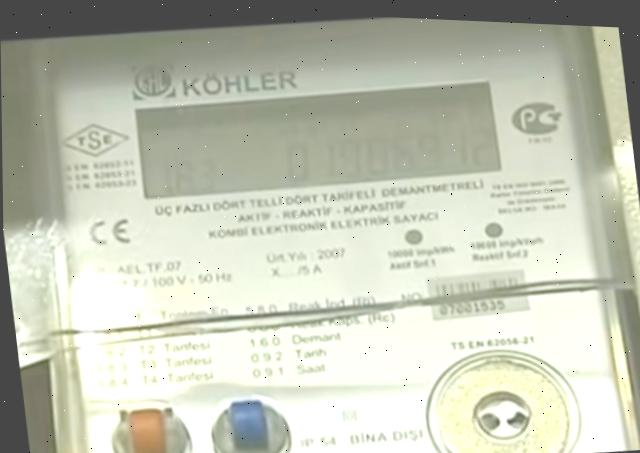electric-meter-detection: (39, 19, 638, 453)
